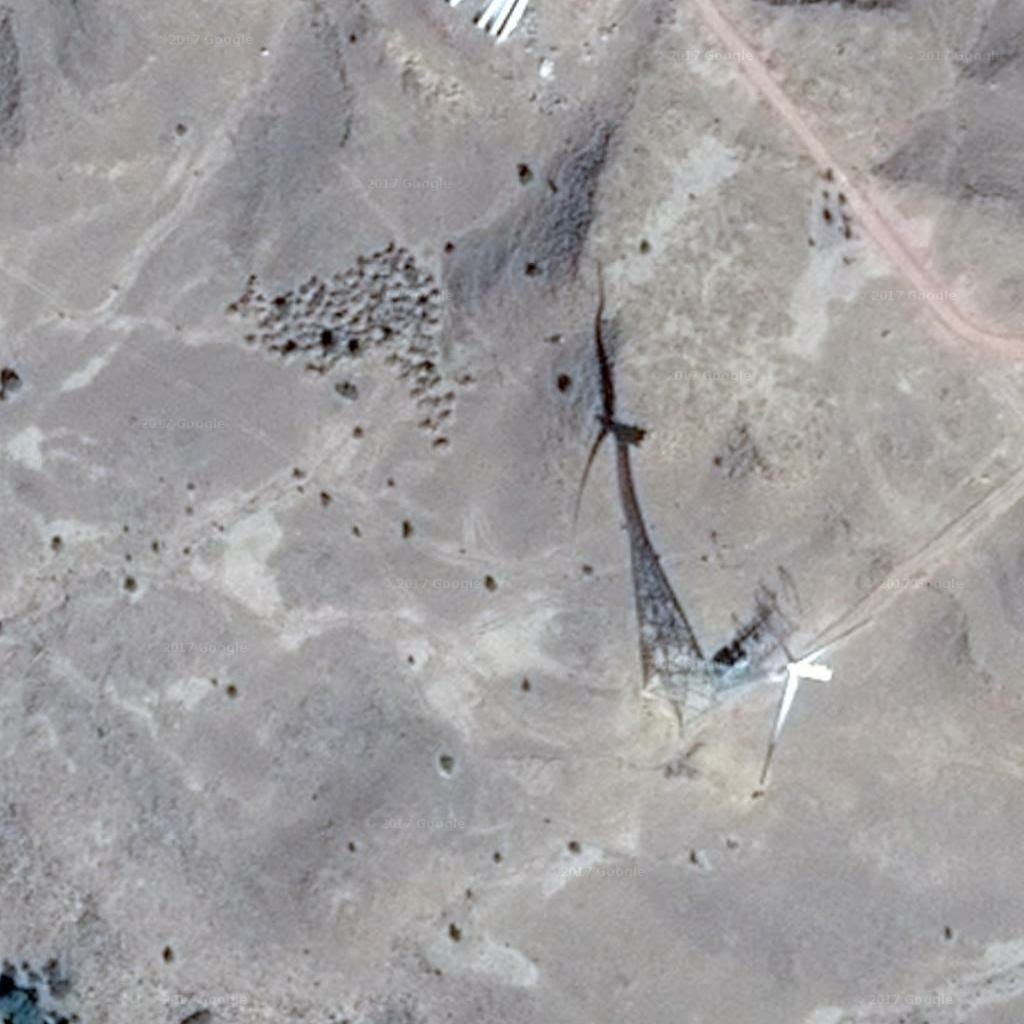Windmill: (571, 272, 734, 673)
